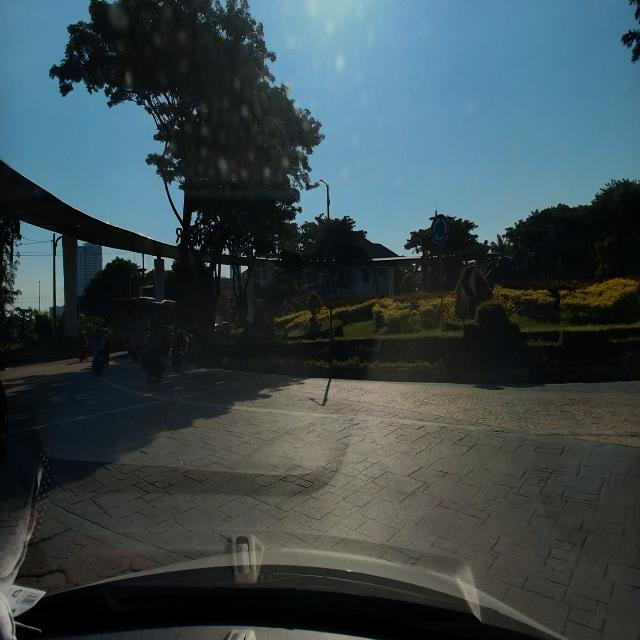bus: (110, 293, 181, 358)
